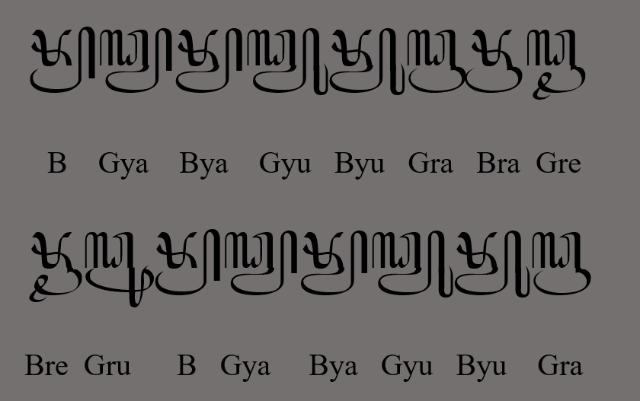-B: (29, 26, 96, 94), (156, 228, 220, 298)
Br: (465, 28, 523, 94)
Bre: (28, 232, 82, 304)
By: (175, 27, 243, 94), (301, 230, 369, 297)
Byu: (455, 229, 531, 298), (329, 28, 406, 96)
Gr: (407, 28, 467, 94), (532, 231, 592, 296)
Gre: (526, 29, 586, 101)
Gru: (84, 232, 154, 308)
Gy: (99, 28, 173, 94), (225, 231, 299, 297)
Gyu: (247, 28, 329, 96), (372, 232, 454, 298)
